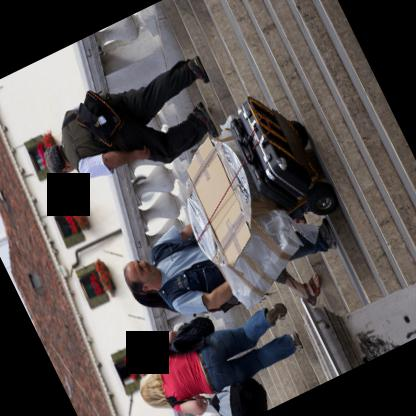backpack: (72, 89, 123, 147)
handbag: (164, 373, 270, 416), (62, 88, 124, 149), (150, 316, 215, 366)
suitcase: (236, 97, 311, 197), (230, 117, 298, 211)
